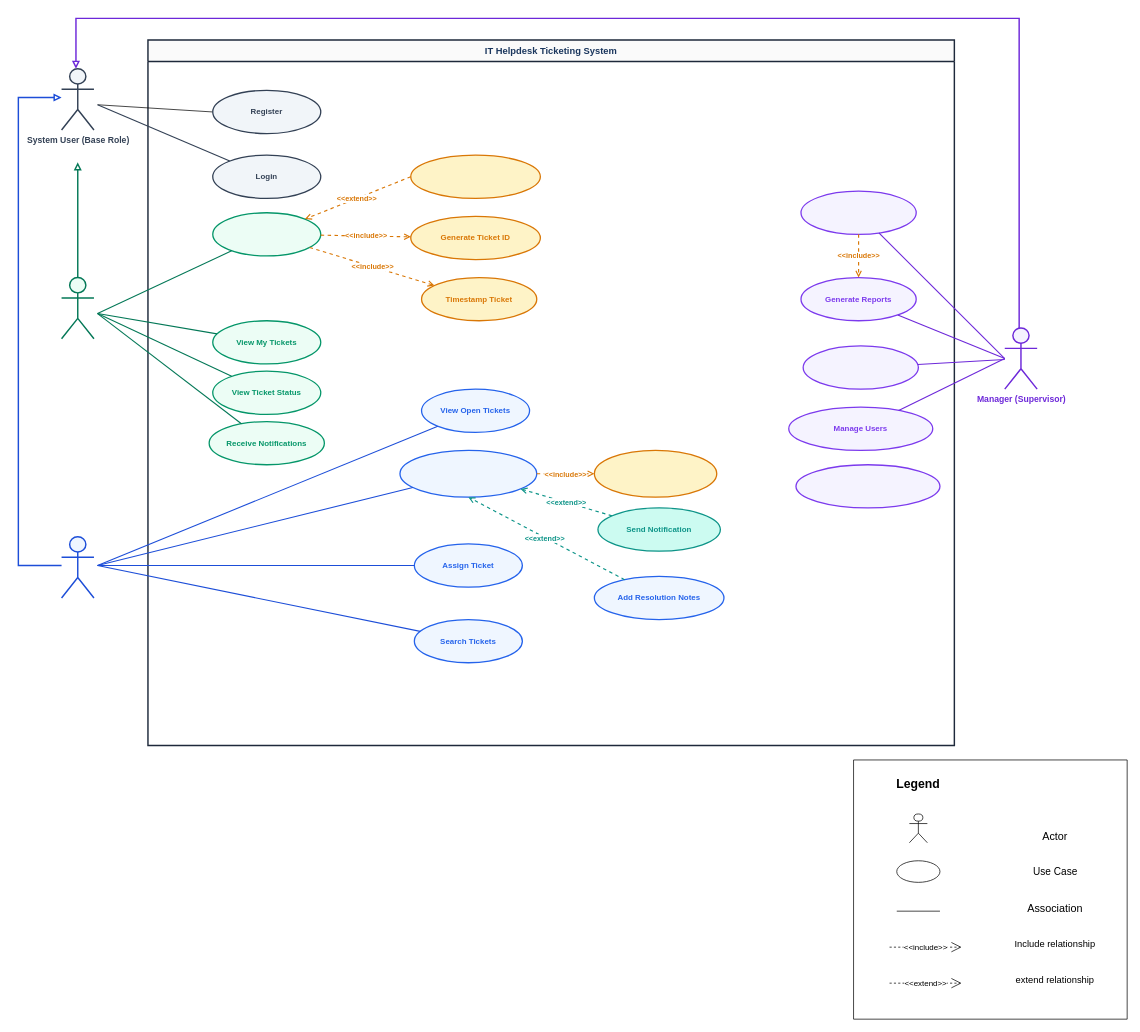
The diagram is 1140 pixels wide and 1032 high, and some of its shapes have lost their labels. The box of each missing label's shape, as (x1, y1, x2, y2) in pixels:
Attach photo: (410, 154, 541, 199)
Create Ticket: (212, 212, 321, 256)
Monitor Support Activities: (795, 464, 940, 508)
Save Status Change: (593, 449, 717, 497)
Staff (End User): (60, 276, 94, 339)
Technician (IT Support): (60, 536, 94, 598)
Update Ticket Status: (399, 449, 537, 497)
View All Tickets: (802, 345, 919, 389)
View Dashboard: (800, 190, 916, 235)
